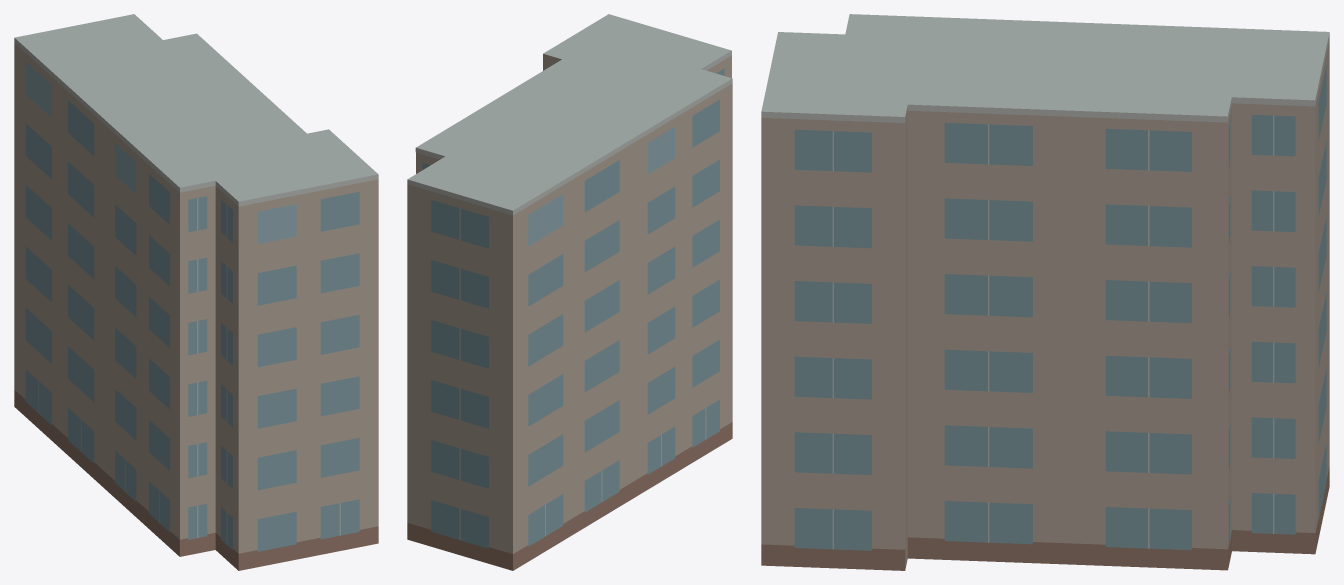
File: survey-upis-32657611.glb
The picture shows the model from 3 angles, left to right: view 1: azimuth 30°, elevation 25°; view 2: azimuth 150°, elevation 25°; view 3: azimuth 270°, elevation 25°; orthographic projection. The views are drawn at different scales.
Parts seen in each view (by area): view 1: survey-upis-32657611.tmp; view 2: survey-upis-32657611.tmp; view 3: survey-upis-32657611.tmp.
Boxes of the visible parts, x1,y1,x2,y2 form: survey-upis-32657611.tmp: [14, 14, 378, 570]; survey-upis-32657611.tmp: [407, 14, 732, 570]; survey-upis-32657611.tmp: [761, 14, 1329, 570].
Bounding box in the file's own units: 8.92 × 18.3 × 20.78.
